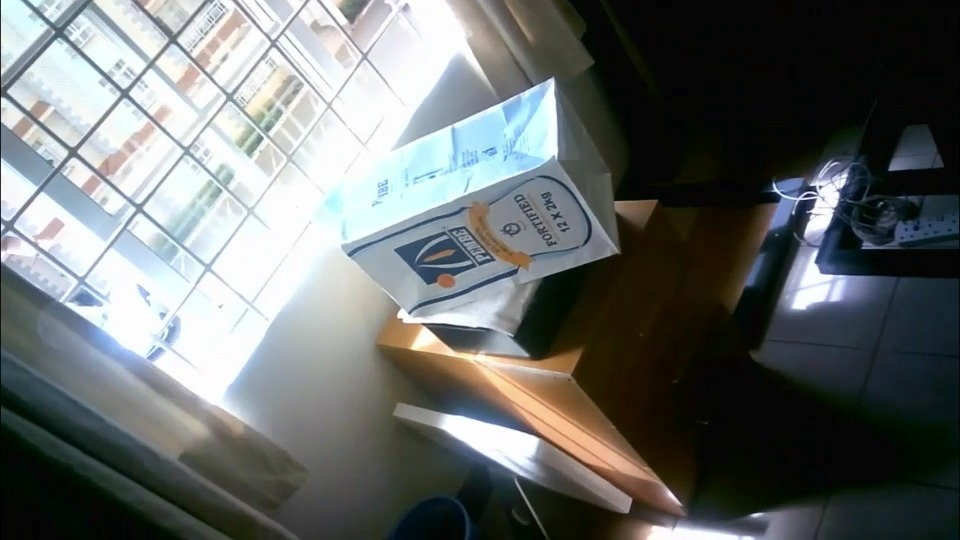wheat_flour_blue_label: (336, 78, 622, 320)
